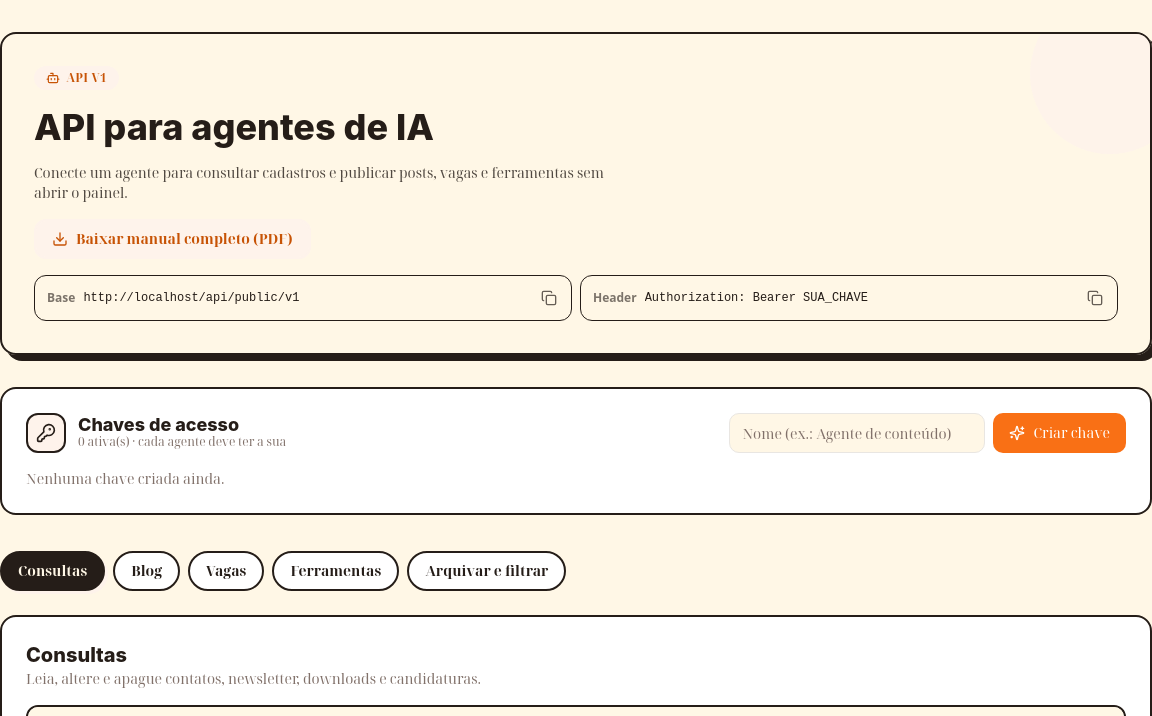
Test: Botões de copiar › copia o endereço base e o cabeçalho com feedback visual
The width and height of the screenshot is (1152, 716).
Click the button named "Copiar endereço base" at point(549, 298), box x1=531 y1=280 x2=567 y2=316
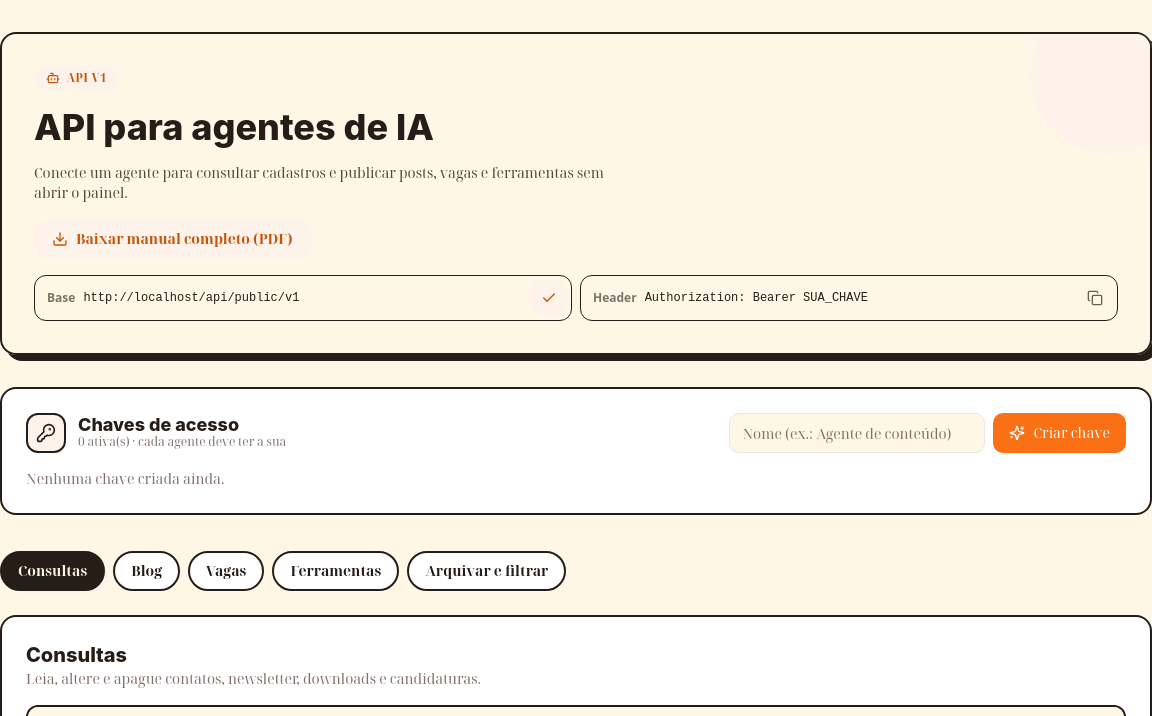
Expected: the button named "Copiar endereço base" has attribute data-copied="true", x1=531 y1=280 x2=567 y2=316
Expected: the button named "Copiar endereço base" has class "bg-accent", x1=531 y1=280 x2=567 y2=316
Click the button named "Copiar cabeçalho" at point(1095, 298), box x1=1077 y1=280 x2=1113 y2=316
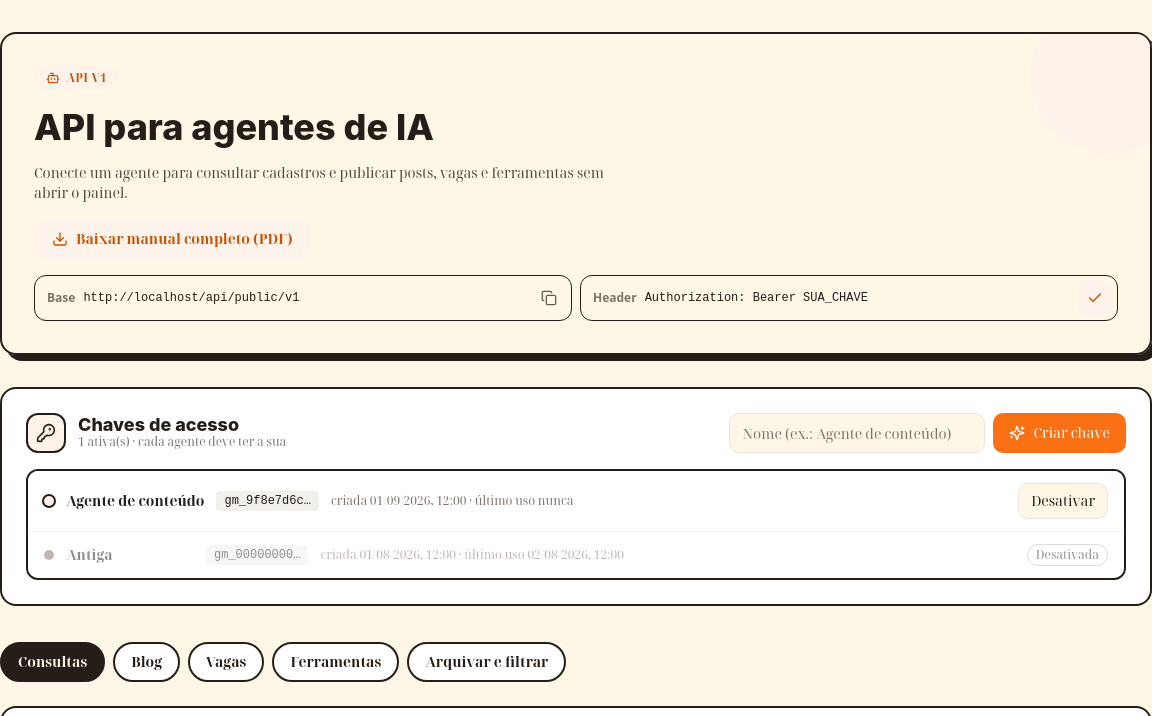
Expected: the button named "Copiar cabeçalho" has attribute data-copied="true", x1=1077 y1=280 x2=1113 y2=316
Expected: the button named "Copiar cabeçalho" has class "bg-accent", x1=1077 y1=280 x2=1113 y2=316
Expected: the button named "Copiar endereço base" has attribute data-copied="false", x1=531 y1=280 x2=567 y2=316
